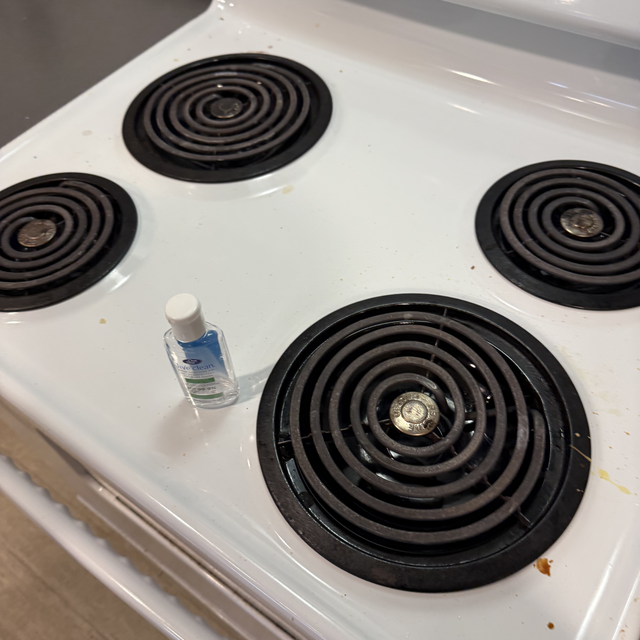Sanitizer: (163, 293, 243, 410)
Stove: (0, 0, 640, 640)
